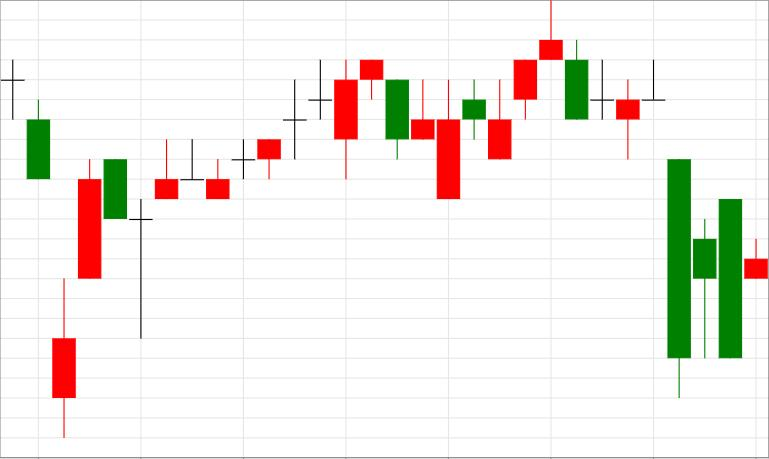evening_star_fall: (129, 60, 408, 336)
